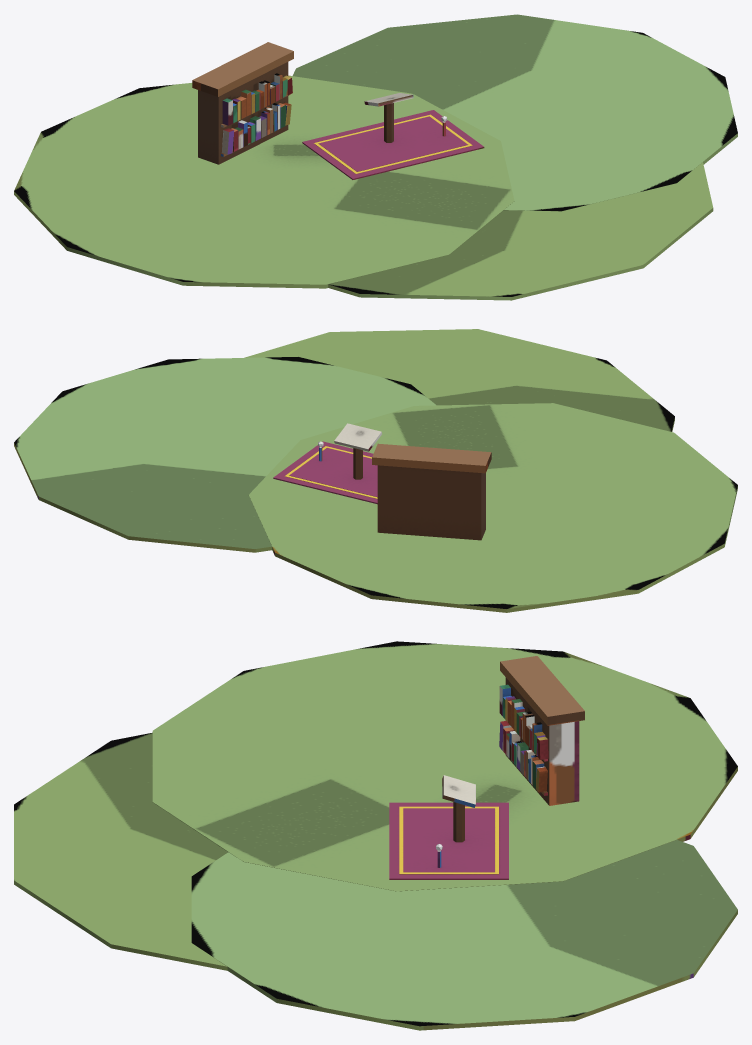
File: area_library_0_0.fbx
3 renders of one model, top to bottom at view 1: azimuth 30°, elevation 25°; view 2: azimuth 150°, elevation 25°; view 3: azimuth 270°, elevation 25°, orthographic. The views are drawn at different scales.
Parts seen in each view (by area): view 1: area_library_0_0_body; view 2: area_library_0_0_body; view 3: area_library_0_0_body.
Boxes of the visible parts, x1,y1,x2,y2 form: area_library_0_0_body: (14, 14, 737, 300); area_library_0_0_body: (14, 329, 737, 612); area_library_0_0_body: (14, 641, 737, 1030).
Size of the model in its own units: 11426 by 1338 by 9088.
2 materials, 1 textured.
